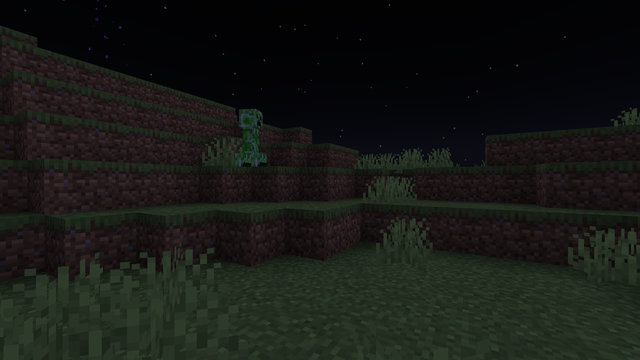creepers: (235, 104, 265, 166)
